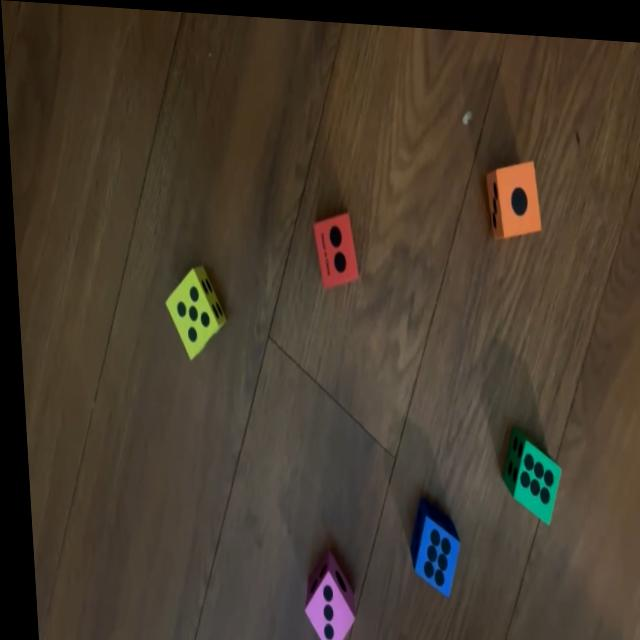blue_block: (401, 493, 455, 596)
red_block: (308, 203, 358, 285)
